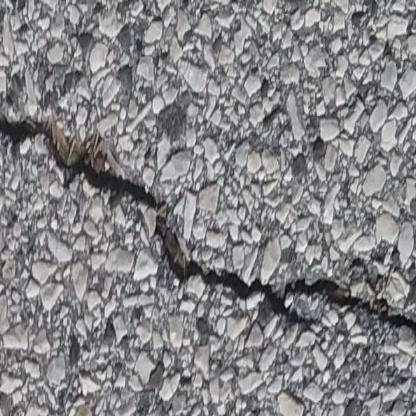Cracks: (0, 94, 416, 364)
